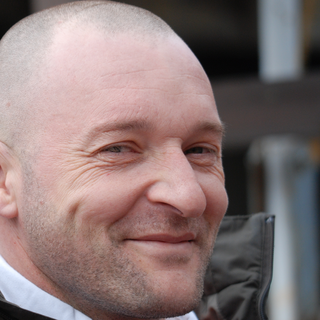eye: (178, 139, 219, 165), (91, 140, 145, 159)
